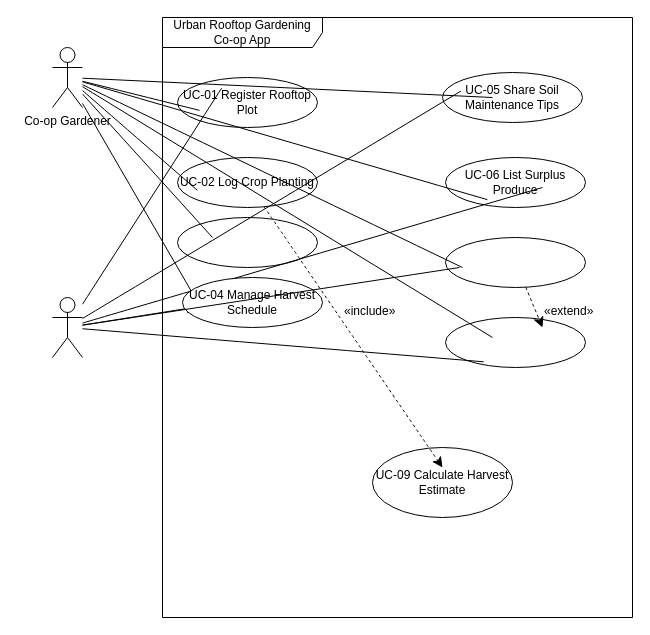
Some shapes in this 650 by 635 pixel diagram are drawn without their labels. Each missing label, with the box of its shape:
Community Leader: (52, 296, 82, 358)
UC-03 Record Crop Yield: (176, 216, 318, 268)
UC-07 Trade Surplus Produce: (444, 236, 586, 288)
UC-08 View Surplus Listings: (444, 316, 586, 368)
